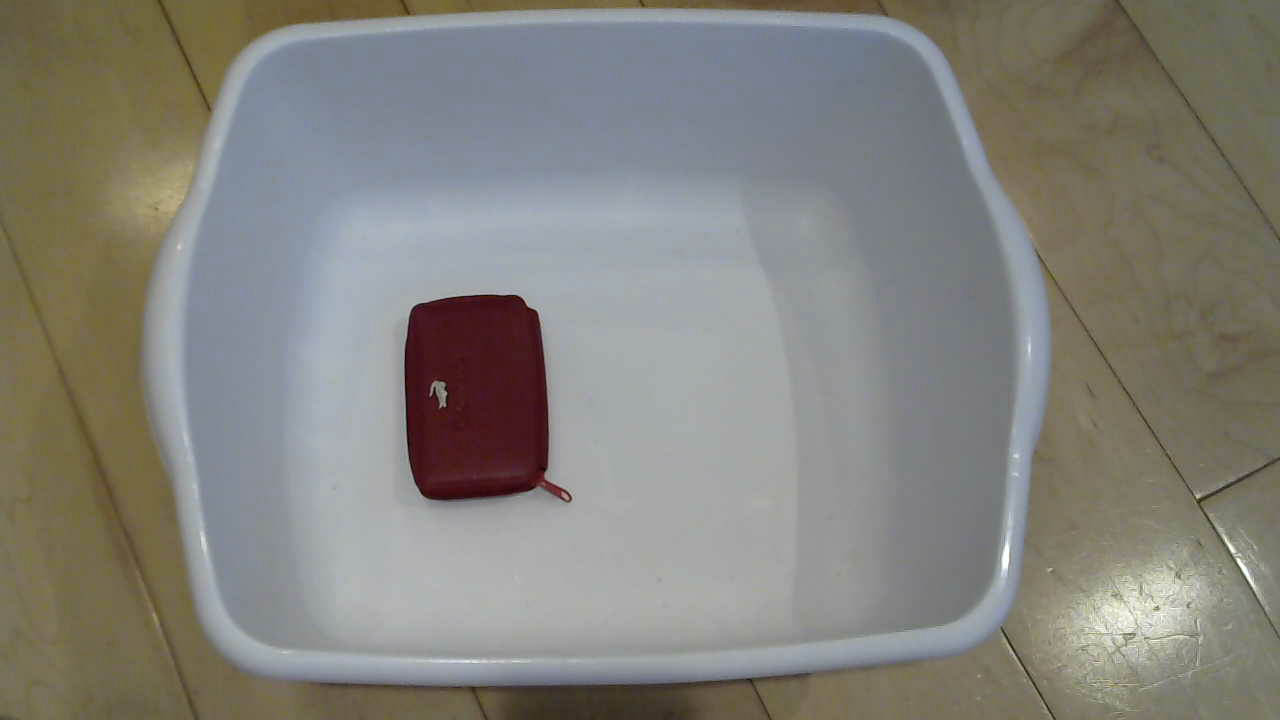wallet: (382, 298, 570, 511)
